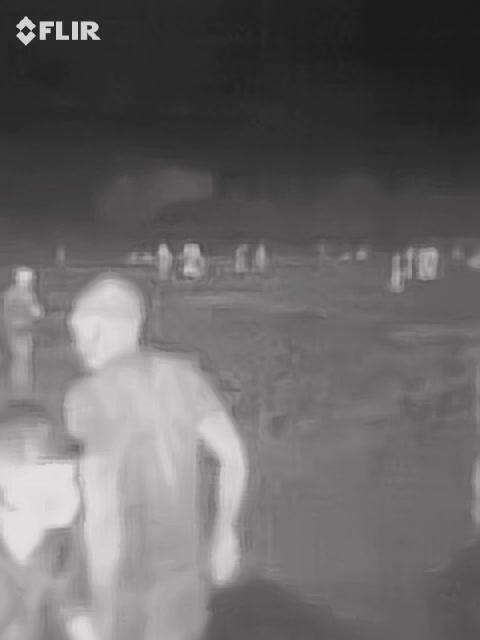head: (63, 271, 164, 378)
